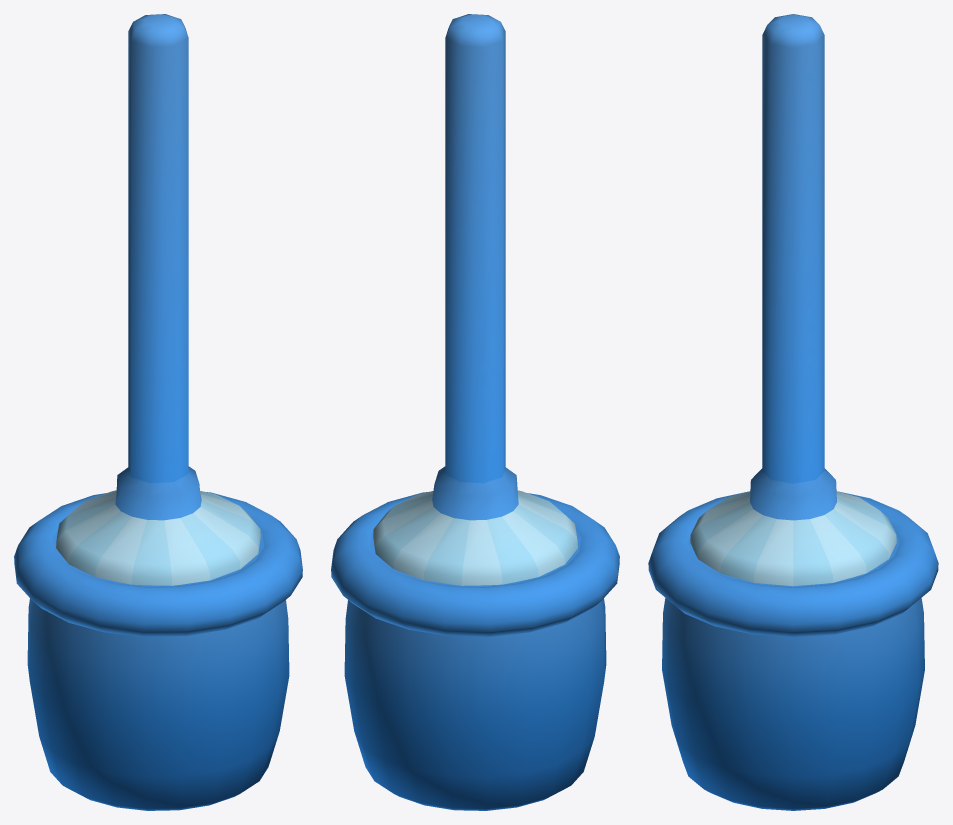
The model's file is Brush_02.glb.
3 renders of one model, left to right at view 1: azimuth 30°, elevation 25°; view 2: azimuth 150°, elevation 25°; view 3: azimuth 270°, elevation 25°, orthographic.
Parts seen in each view (by area): view 1: Brush_02; view 2: Brush_02; view 3: Brush_02.
Part boxes in pixels (box(x1,y1,x2,y2)): Brush_02: box(14, 14, 302, 810); Brush_02: box(331, 14, 619, 810); Brush_02: box(648, 14, 938, 810).
Size of the model in its own units: 0.1938 by 0.5504 by 0.1938.
1 material, 1 textured.
